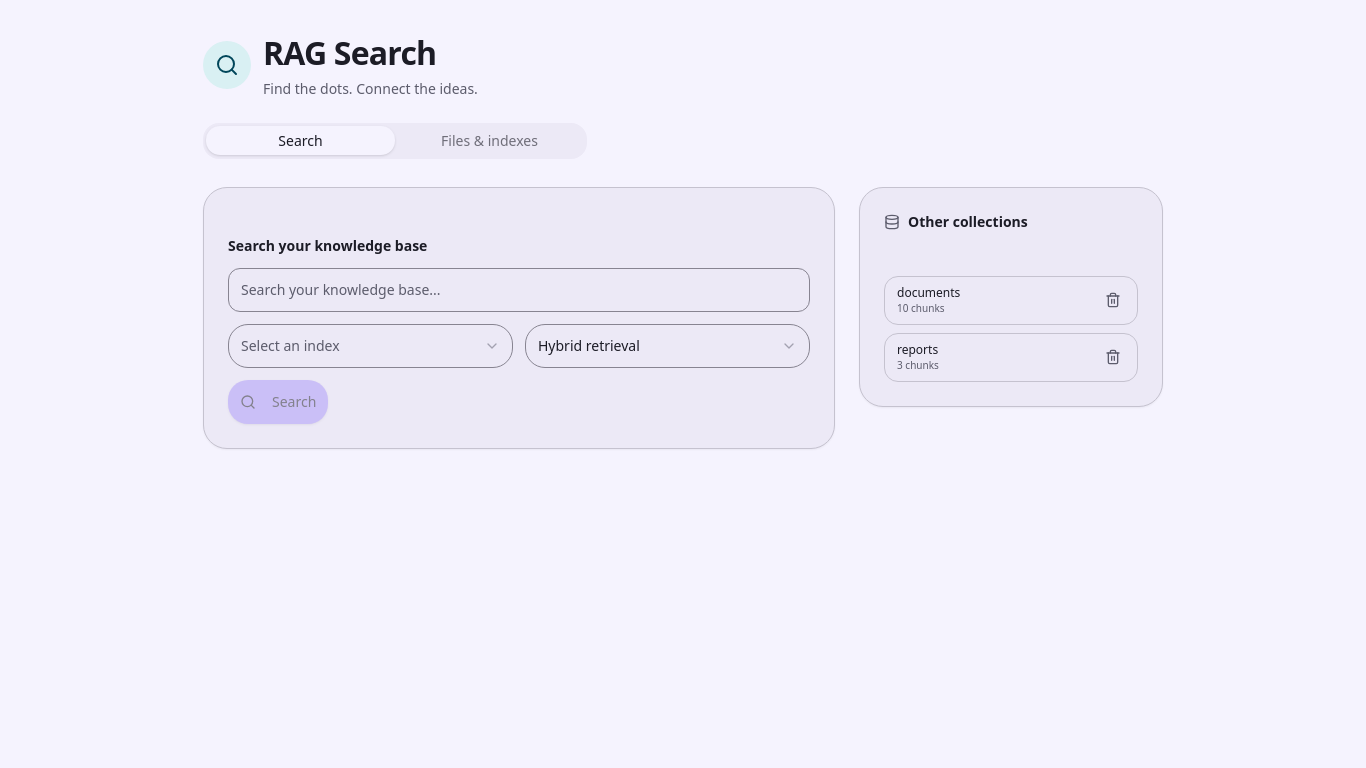
Test: RAG Page › performs search and displays results
Click the dropdown named "Search index".
click(290, 345)  # box [228,324,513,368]
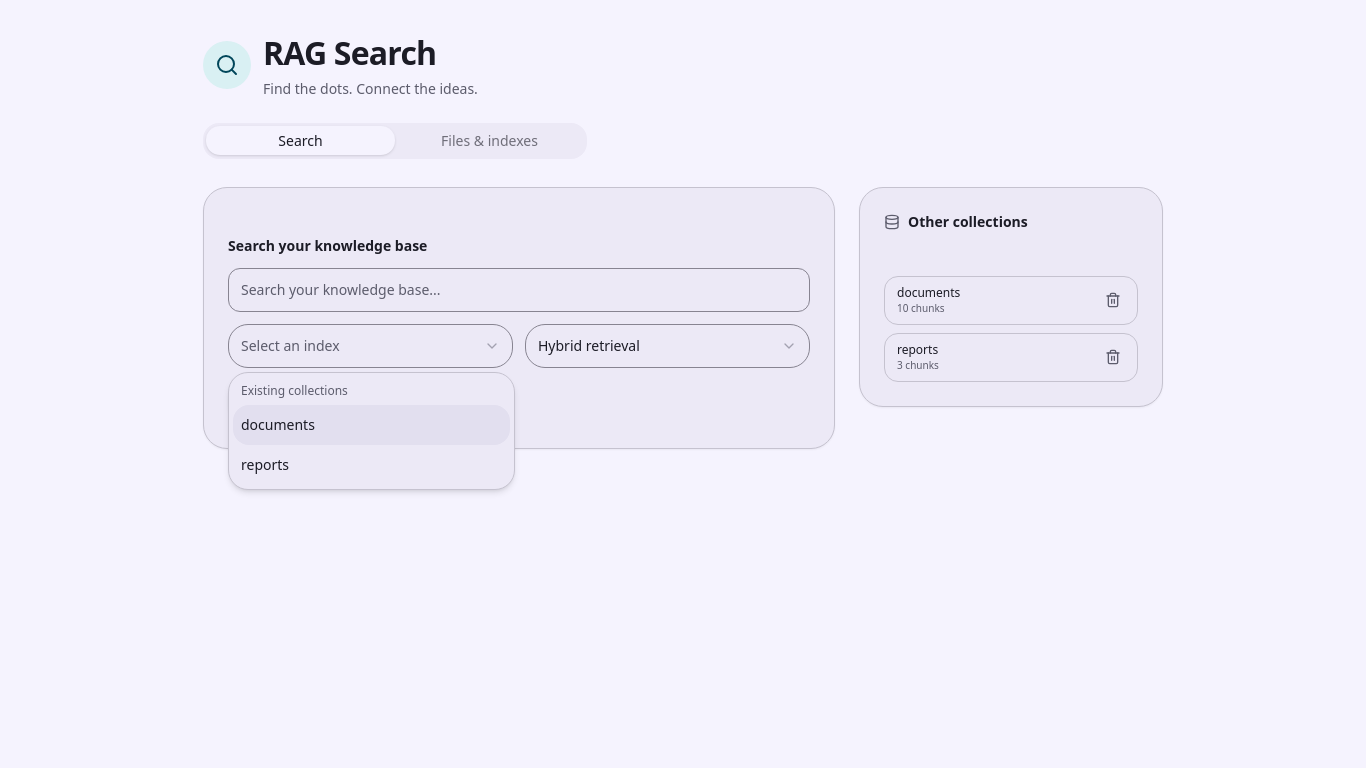
Click the option "documents".
click(278, 424)  # box [233,405,510,445]
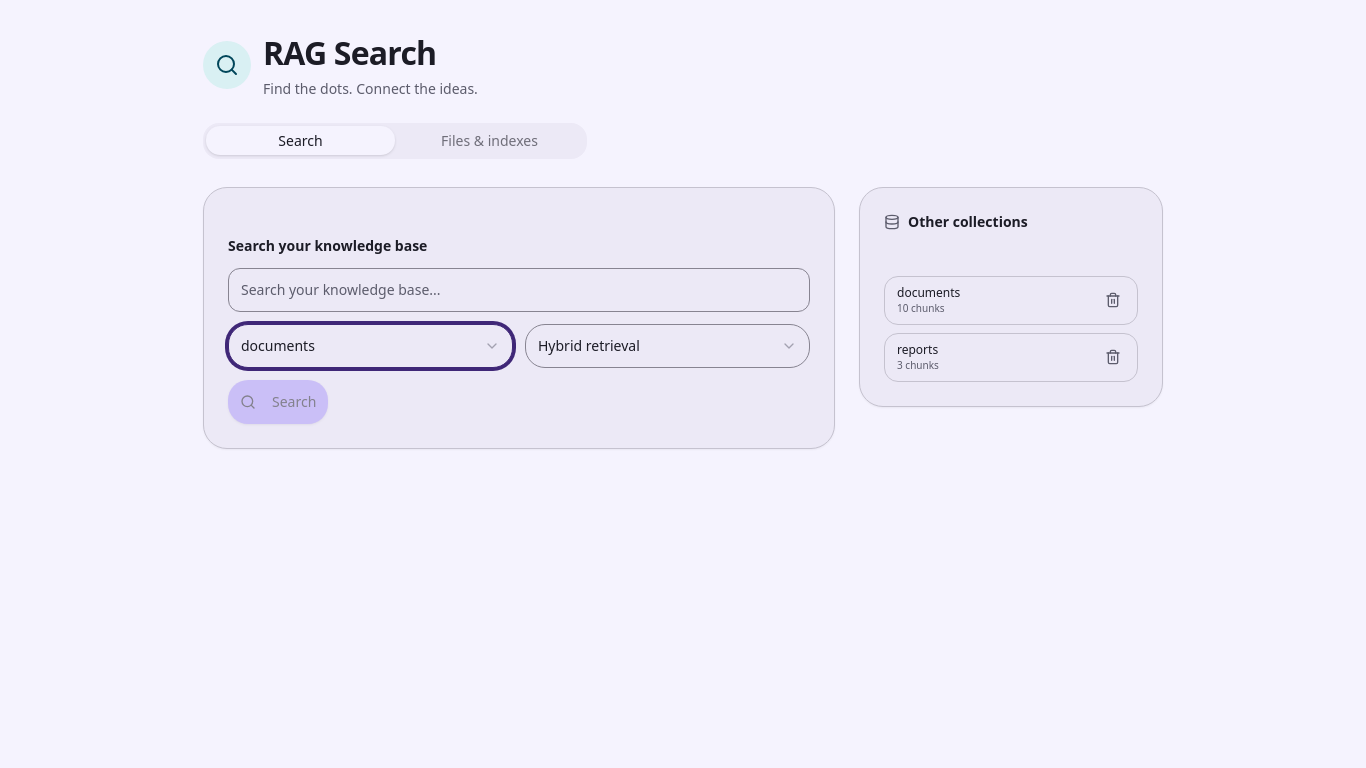
Type "Python features" into the field with placeholder "Search your knowledge base...".
click(519, 290); type("Python features")  # box [228,268,810,312]
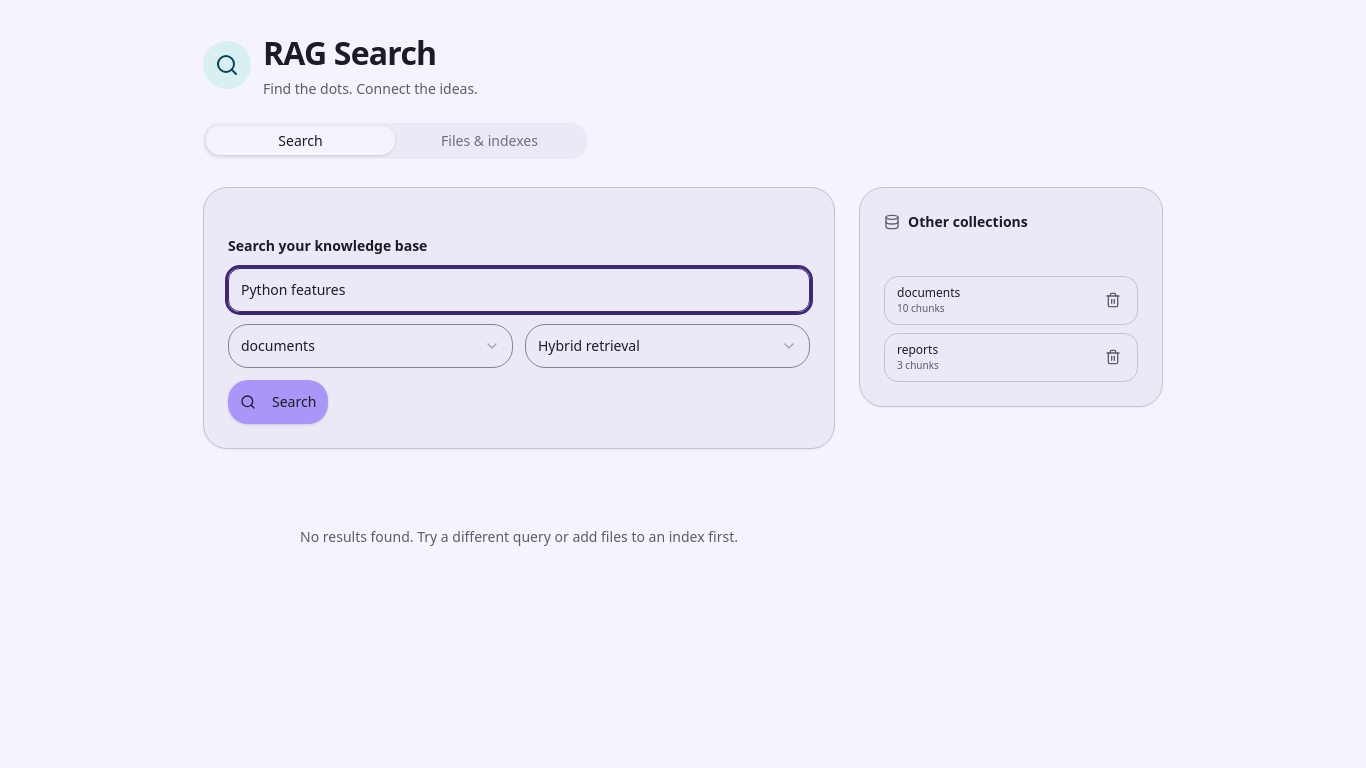
Click the button "Search".
click(278, 402)  # box [228,380,328,424]
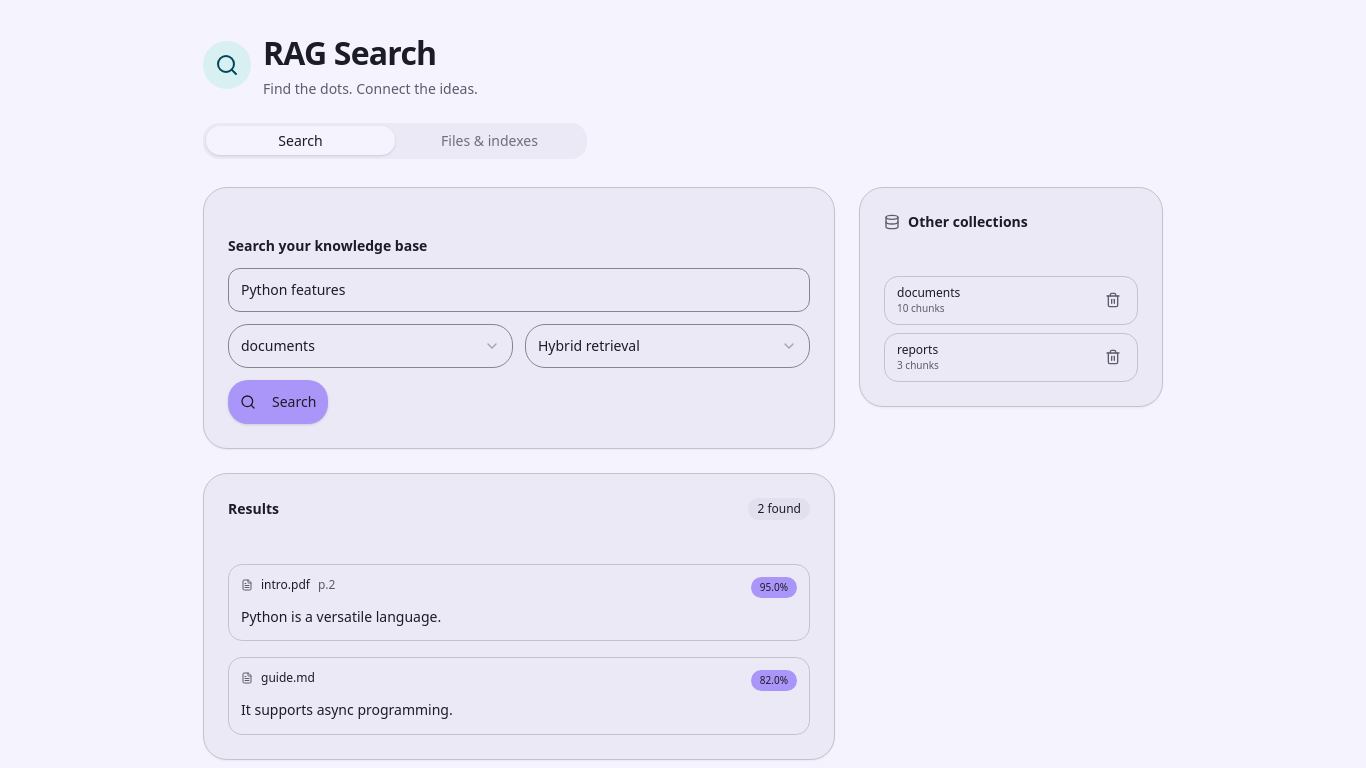
Expected: the text "Results" is shown, [228,499,279,519]
Expected: the text "2 found" is shown, [748,498,810,520]
Expected: the text "Python is a versatile language." is shown, [241,607,441,626]
